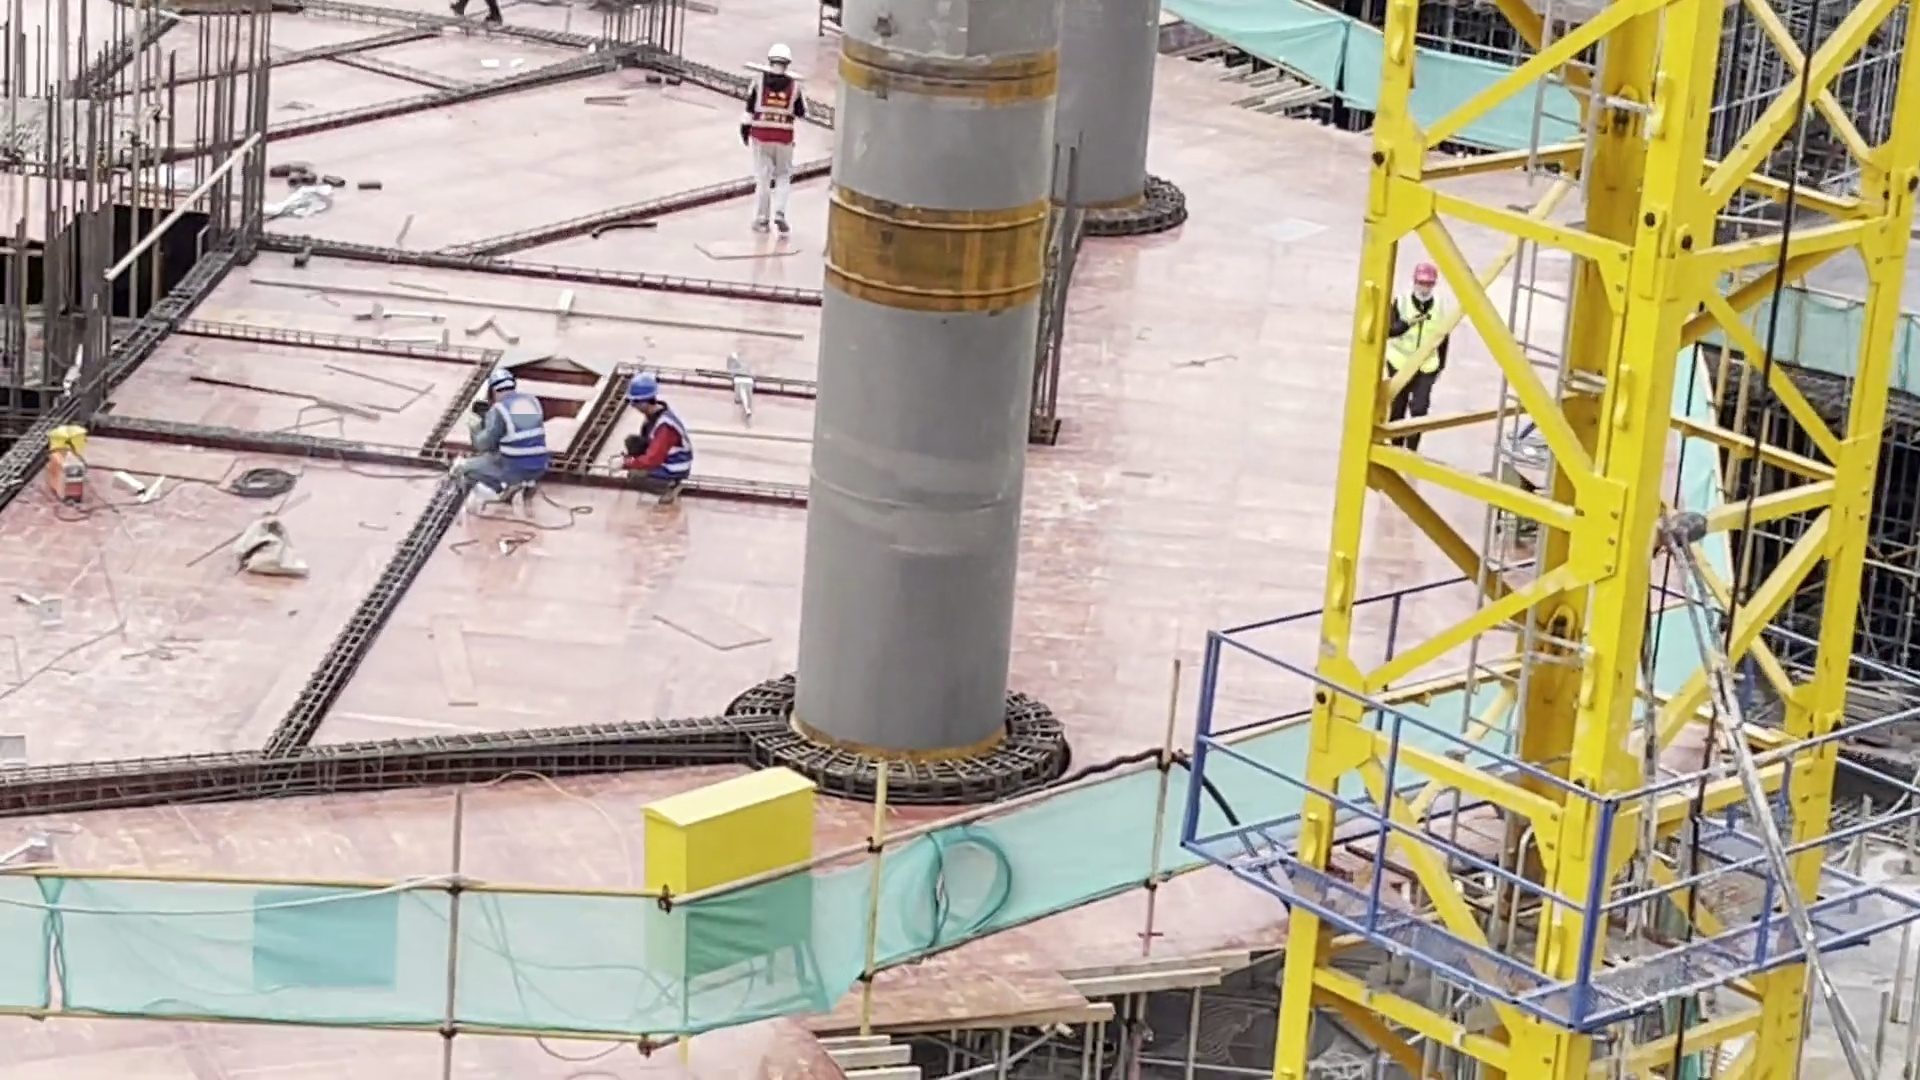helmet: (624, 374, 658, 403), (485, 367, 515, 393), (1413, 263, 1441, 286)
person: (451, 367, 557, 519), (737, 37, 808, 254), (1378, 257, 1449, 459), (615, 374, 691, 506)
vest: (491, 395, 550, 475), (746, 67, 806, 146), (641, 412, 693, 484)
